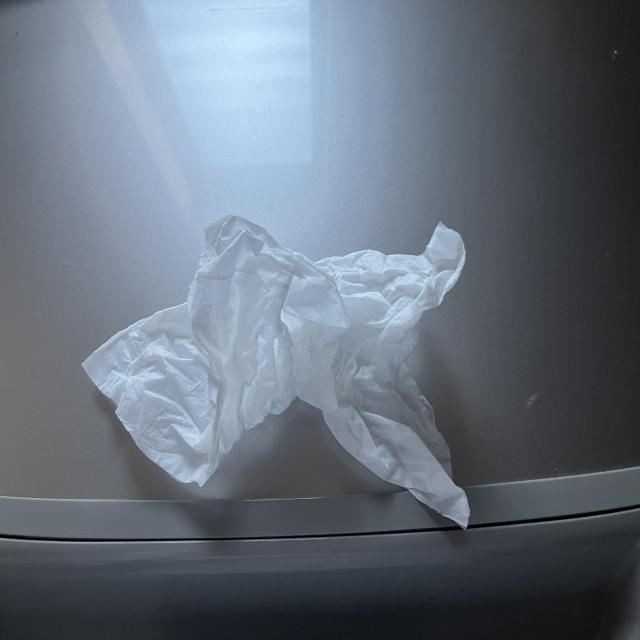Paper: (88, 216, 482, 510)
